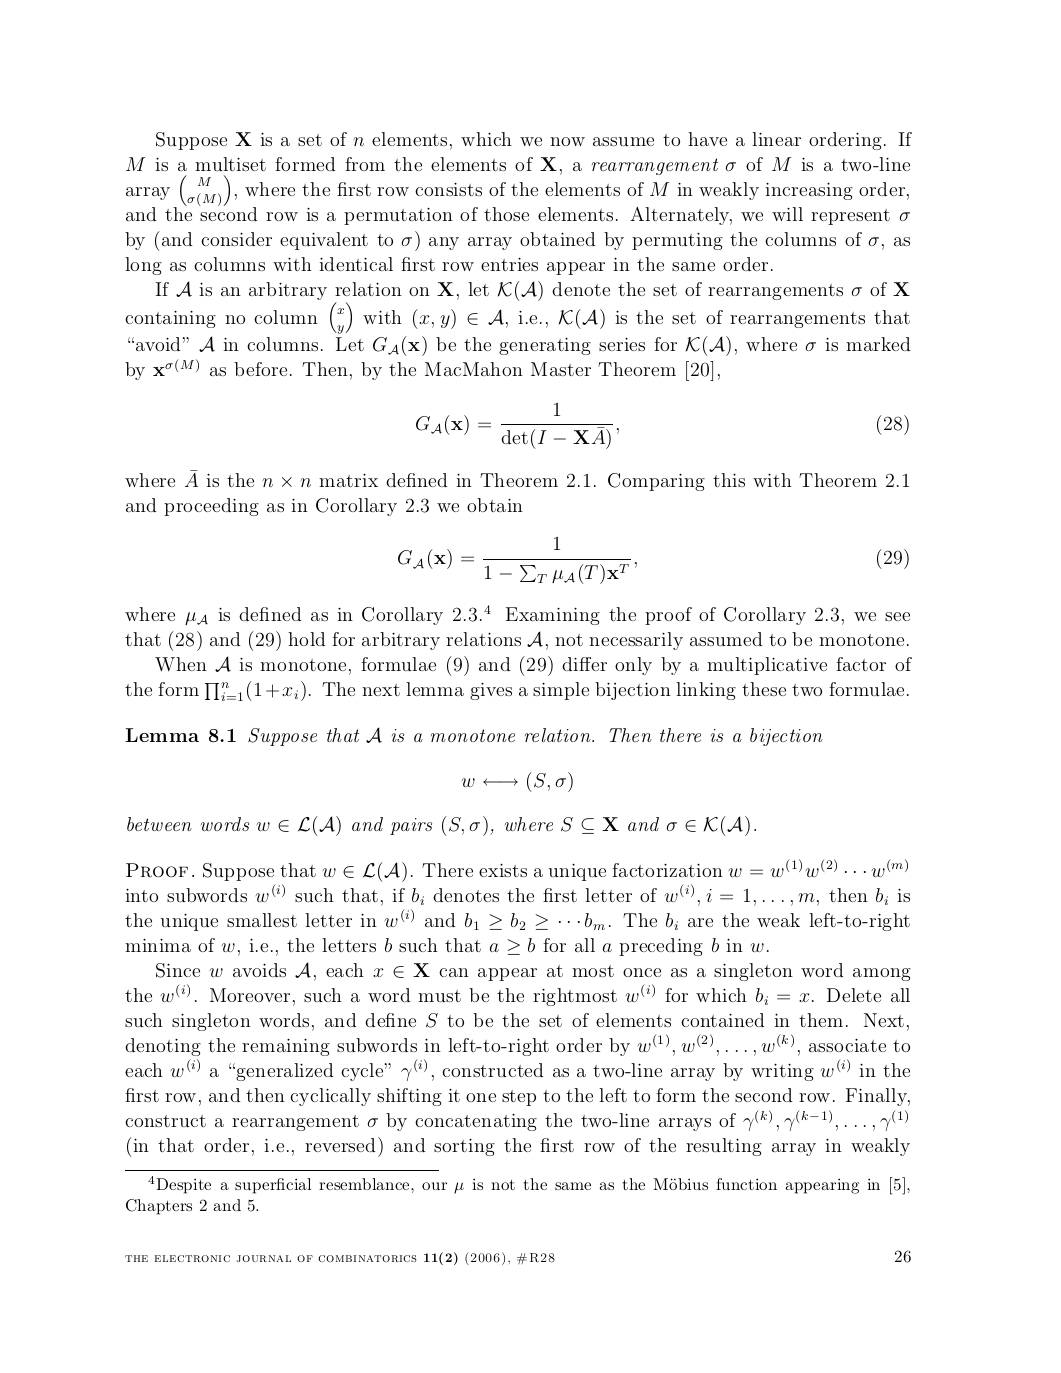formula: (398, 535, 908, 584), (416, 401, 908, 449), (461, 771, 572, 792)
